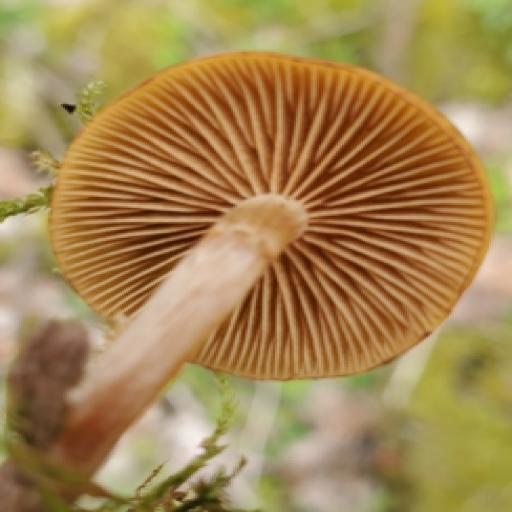mushroom: (46, 47, 494, 415)
